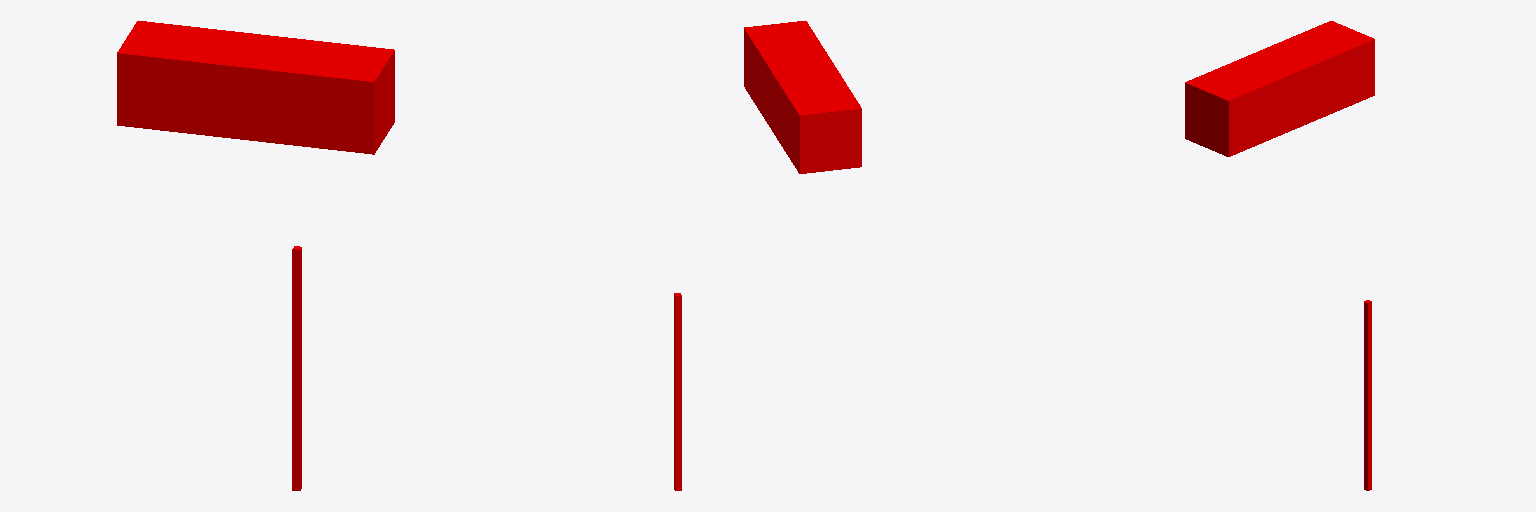
The robot description file, URDF, robot "panda":
<?xml version="1.0" ?>
<!-- =================================================================================== -->
<!-- |    This document was autogenerated by xacro from panda_arm_hand.urdf.xacro      | -->
<!-- |    EDITING THIS FILE BY HAND IS NOT RECOMMENDED                                 | -->
<!-- =================================================================================== -->
<robot name="panda"
  xmlns:xacro="http://www.ros.org/wiki/xacro">
  <link name="panda_link0">
    <inertial>
      <origin rpy="0 0 0" xyz="0 0 0.05"/>
      <mass value="2.9"/>
      <inertia ixx="0.1" ixy="0" ixz="0" iyy="0.1" iyz="0" izz="0.1"/>
    </inertial>
    <visual>
      <geometry>
        <mesh filename="package://meshes/collision/link0.obj"/>
      </geometry>
      <material name="panda_white">
        <color rgba="1. 1. 1. 1."/>
      </material>
    </visual>
    <collision>
      <geometry>
        <mesh filename="package://meshes/collision/link0.obj"/>
      </geometry>
      <material name="panda_white"/>
    </collision>
  </link>
  <link name="panda_link1">
    <inertial>
      <origin rpy="0 0 0" xyz="0 -0.04 -0.05"/>
      <mass value="2.7"/>
      <inertia ixx="0.1" ixy="0" ixz="0" iyy="0.1" iyz="0" izz="0.1"/>
    </inertial>
    <visual>
      <geometry>
        <mesh filename="package://meshes/visual/link1.obj"/>
      </geometry>
      <material name="panda_white"/>
    </visual>
    <collision>
      <geometry>
        <mesh filename="package://meshes/collision/link1.obj"/>
      </geometry>
      <material name="panda_white"/>
    </collision>
  </link>
  <joint name="panda_joint1" type="revolute">
    <safety_controller k_position="100.0" k_velocity="40.0" soft_lower_limit="-2.8973" soft_upper_limit="2.8973"/>
    <origin rpy="0 0 0" xyz="0 0 0.333"/>
    <parent link="panda_link0"/>
    <child link="panda_link1"/>
    <axis xyz="0 0 1"/>
    <limit effort="87" lower="-2.9671" upper="2.9671" velocity="2.1750"/>
  </joint>
  <link name="panda_link2">
    <inertial>
      <origin rpy="0 0 0" xyz="0 -0.04 0.06"/>
      <mass value="2.73"/>
      <inertia ixx="0.1" ixy="0" ixz="0" iyy="0.1" iyz="0" izz="0.1"/>
    </inertial>
    <visual>
      <geometry>
        <mesh filename="package://meshes/visual/link2.obj"/>
      </geometry>
      <material name="panda_white"/>
    </visual>
    <collision>
      <geometry>
        <mesh filename="package://meshes/collision/link2.obj"/>
      </geometry>
      <material name="panda_white"/>
    </collision>
  </link>
  <joint name="panda_joint2" type="revolute">
    <safety_controller k_position="100.0" k_velocity="40.0" soft_lower_limit="-1.7628" soft_upper_limit="1.7628"/>
    <origin rpy="-1.57079632679 0 0" xyz="0 0 0"/>
    <parent link="panda_link1"/>
    <child link="panda_link2"/>
    <axis xyz="0 0 1"/>
    <limit effort="87" lower="-1.8326" upper="1.8326" velocity="2.1750"/>
  </joint>
  <link name="panda_link3">
    <inertial>
      <origin rpy="0 0 0" xyz="0.01 0.01 -0.05"/>
      <mass value="2.04"/>
      <inertia ixx="0.1" ixy="0" ixz="0" iyy="0.1" iyz="0" izz="0.1"/>
    </inertial>
    <visual>
      <geometry>
        <mesh filename="package://meshes/visual/link3.obj"/>
      </geometry>
      <material name="panda_red">
        <color rgba="1. 1. 1. 1."/>
      </material>
    </visual>
    <collision>
      <geometry>
        <mesh filename="package://meshes/collision/link3.obj"/>
      </geometry>
    </collision>
  </link>
  <joint name="panda_joint3" type="revolute">
    <safety_controller k_position="100.0" k_velocity="40.0" soft_lower_limit="-2.8973" soft_upper_limit="2.8973"/>
    <origin rpy="1.57079632679 0 0" xyz="0 -0.316 0"/>
    <parent link="panda_link2"/>
    <child link="panda_link3"/>
    <axis xyz="0 0 1"/>
    <limit effort="87" lower="-2.9671" upper="2.9671" velocity="2.1750"/>
  </joint>
  <link name="panda_link4">
    <inertial>
      <origin rpy="0 0 0" xyz="-0.03 0.03 0.02"/>
      <mass value="2.08"/>
      <inertia ixx="0.1" ixy="0" ixz="0" iyy="0.1" iyz="0" izz="0.1"/>
    </inertial>
    <visual>
      <geometry>
        <mesh filename="package://meshes/visual/link4.obj"/>
      </geometry>
      <material name="panda_white"/>
    </visual>
    <collision>
      <geometry>
        <mesh filename="package://meshes/collision/link4.obj"/>
      </geometry>
      <material name="panda_white"/>
    </collision>
  </link>
  <joint name="panda_joint4" type="revolute">
    <safety_controller k_position="100.0" k_velocity="40.0" soft_lower_limit="-3.0718" soft_upper_limit="-0.0698"/>
    <origin rpy="1.57079632679 0 0" xyz="0.0825 0 0"/>
    <parent link="panda_link3"/>
    <child link="panda_link4"/>
    <axis xyz="0 0 1"/>
    <limit effort="87" lower="-3.1416" upper="0.0" velocity="2.1750"/>
  </joint>
  <link name="panda_link5">
    <inertial>
      <origin rpy="0 0 0" xyz="0 0.04 -0.12"/>
      <mass value="3"/>
      <inertia ixx="0.1" ixy="0" ixz="0" iyy="0.1" iyz="0" izz="0.1"/>
    </inertial>
    <visual>
      <geometry>
        <mesh filename="package://meshes/visual/link5.obj"/>
      </geometry>
      <material name="panda_white"/>
    </visual>
    <collision>
      <geometry>
        <mesh filename="package://meshes/collision/link5.obj"/>
      </geometry>
      <material name="panda_white"/>
    </collision>
  </link>
  <joint name="panda_joint5" type="revolute">
    <safety_controller k_position="100.0" k_velocity="40.0" soft_lower_limit="-2.8973" soft_upper_limit="2.8973"/>
    <origin rpy="-1.57079632679 0 0" xyz="-0.0825 0.384 0"/>
    <parent link="panda_link4"/>
    <child link="panda_link5"/>
    <axis xyz="0 0 1"/>
    <limit effort="12" lower="-2.9671" upper="2.9671" velocity="2.6100"/>
  </joint>
  <link name="panda_link6">
    <inertial>
      <origin rpy="0 0 0" xyz="0.04 0 0"/>
      <mass value="1.3"/>
      <inertia ixx="0.1" ixy="0" ixz="0" iyy="0.1" iyz="0" izz="0.1"/>
    </inertial>
    <visual>
      <geometry>
        <mesh filename="package://meshes/visual/link6.obj"/>
      </geometry>
      <material name="panda_white"/>
    </visual>
    <collision>
      <geometry>
        <mesh filename="package://meshes/collision/link6.obj"/>
      </geometry>
      <material name="panda_white"/>
    </collision>
  </link>
  <joint name="panda_joint6" type="revolute">
    <safety_controller k_position="100.0" k_velocity="40.0" soft_lower_limit="-0.0175" soft_upper_limit="3.7525"/>
    <origin rpy="1.57079632679 0 0" xyz="0 0 0"/>
    <parent link="panda_link5"/>
    <child link="panda_link6"/>
    <axis xyz="0 0 1"/>
    <limit effort="12" lower="-0.0873" upper="3.8223" velocity="2.6100"/>
  </joint>
  <link name="panda_link7">
    <inertial>
      <origin rpy="0 0 0" xyz="0 0 0.08"/>
      <mass value=".2"/>
      <inertia ixx="0.1" ixy="0" ixz="0" iyy="0.1" iyz="0" izz="0.1"/>
    </inertial>
    <visual>
      <geometry>
        <mesh filename="package://meshes/collision/link7.obj"/>
      </geometry>
      <material name="panda_white"/>
    </visual>
    <collision>
      <geometry>
        <mesh filename="package://meshes/collision/link7.obj"/>
      </geometry>
      <material name="panda_white"/>
    </collision>
  </link>
  <joint name="panda_joint7" type="revolute">
    <safety_controller k_position="100.0" k_velocity="40.0" soft_lower_limit="-2.8973" soft_upper_limit="2.8973"/>
    <origin rpy="1.57079632679 0 0" xyz="0.088 0 0"/>
    <parent link="panda_link6"/>
    <child link="panda_link7"/>
    <axis xyz="0 0 1"/>
    <limit effort="12" lower="-2.9671" upper="2.9671" velocity="2.6100"/>
  </joint>
  <link name="panda_link8">
    <inertial>
      <origin rpy="0 0 0" xyz="0 0 0"/>
      <mass value="0.0"/>
      <inertia ixx="0.1" ixy="0" ixz="0" iyy="0.1" iyz="0" izz="0.1"/>
    </inertial>
  </link>
  <joint name="panda_joint8" type="fixed">
    <origin rpy="0 0 0" xyz="0 0 0.107"/>
    <parent link="panda_link7"/>
    <child link="panda_link8"/>
    <axis xyz="0 0 0"/>
  </joint>
  <joint name="panda_hand_joint" type="fixed">
    <parent link="panda_link8"/>
    <child link="panda_hand"/>
    <origin rpy="0 0 -0.785398163397" xyz="0 0 0"/>
  </joint>
  <link name="panda_hand">
    <inertial>
      <origin rpy="0 0 0" xyz="0 0 0.04"/>
      <mass value=".81"/>
      <inertia ixx="0.1" ixy="0" ixz="0" iyy="0.1" iyz="0" izz="0.1"/>
    </inertial>
    <visual>
      <geometry>
        <mesh filename="package://meshes/visual/hand.obj"/>
      </geometry>
      <material name="panda_white"/>
    </visual>
    <collision>
      <geometry>
        <mesh filename="package://meshes/collision/hand.obj"/>
      </geometry>
      <material name="panda_white"/>
    </collision>
  </link>

  <link name="cam">
    <contact>
      <friction_anchor/>
      <stiffness value="30000.0"/>
      <damping value="1000.0"/>
      <spinning_friction value="0.1"/>
      <lateral_friction value="1.0"/>
    </contact>
    <inertial>
      <origin rpy="0 0 0" xyz="0 0 0"/>
      <mass value="0.1"/>
      <inertia ixx="0.1" ixy="0" ixz="0" iyy="0.1" iyz="0" izz="0.1"/>
    </inertial>
    <visual>
      <origin rpy="0 0 0" xyz="-0.06 0 -0.035"/>
      <geometry>
        <box size="0.03 0.1 0.03"/>
      </geometry>
      <material name="stick_red">
        <color rgba="1 0.0 0.0 1"/>
      </material>
    </visual>
    <collision>
      <origin rpy="0 0 0" xyz="-0.06 0 -0.035"/>
      <geometry>
        <box size="0.03 0.1 0.03"/>
      </geometry>
    </collision>
  </link>
  <joint name="cam_joint" type="fixed">
    <parent link="panda_hand"/>
    <child link="cam"/>
    <origin rpy="0 0 0" xyz="0 -0.005 0.05"/>
  </joint>

  <link name="panda_leftfinger">
    <contact>
      <friction_anchor/>
      <stiffness value="30000.0"/>
      <damping value="1000.0"/>
      <spinning_friction value="0.1"/>
      <lateral_friction value="1.0"/>
    </contact>
    <inertial>
      <origin rpy="0 0 0" xyz="0 0.01 0.02"/>
      <mass value="0.1"/>
      <inertia ixx="0.1" ixy="0" ixz="0" iyy="0.1" iyz="0" izz="0.1"/>
    </inertial>
    <visual>
      <geometry>
        <mesh filename="package://meshes/visual/finger.obj"/>
      </geometry>
      <material name="panda_white"/>
    </visual>
    <collision>
      <geometry>
        <mesh filename="package://meshes/collision/finger.obj"/>
      </geometry>
      <material name="panda_white"/>
    </collision>
  </link>
  <link name="panda_rightfinger">
    <contact>
      <friction_anchor/>
      <stiffness value="30000.0"/>
      <damping value="1000.0"/>
      <spinning_friction value="0.1"/>
      <lateral_friction value="1.0"/>
    </contact>
    <inertial>
      <origin rpy="0 0 0" xyz="0 -0.01 0.02"/>
      <mass value="0.1"/>
      <inertia ixx="0.1" ixy="0" ixz="0" iyy="0.1" iyz="0" izz="0.1"/>
    </inertial>
    <visual>
      <origin rpy="0 0 3.14159265359" xyz="0 0 0"/>
      <geometry>
        <mesh filename="package://meshes/visual/finger.obj"/>
      </geometry>
      <material name="panda_white"/>
    </visual>
    <collision>
      <origin rpy="0 0 3.14159265359" xyz="0 0 0"/>
      <geometry>
        <mesh filename="package://meshes/collision/finger.obj"/>
      </geometry>
      <material name="panda_white"/>
    </collision>
  </link>

  <link name="stick">
    <contact>
      <friction_anchor/>
      <stiffness value="30000.0"/>
      <damping value="1000.0"/>
      <spinning_friction value="0.1"/>
      <lateral_friction value="1.0"/>
    </contact>
    <inertial>
      <origin rpy="0 0 0" xyz="0 0 0"/>
      <mass value="0.1"/>
      <inertia ixx="0.1" ixy="0" ixz="0" iyy="0.1" iyz="0" izz="0.1"/>
    </inertial>
    <visual>
      <origin rpy="0 0 0" xyz="0 0 0.05"/>
      <geometry>
        <box size="0.003 0.003 0.10"/>
      </geometry>
      <material name="stick_red">
        <color rgba="1 0.0 0.0 1"/>
      </material>
    </visual>
    <collision>
      <origin rpy="0 0 0" xyz="0 0 0.05"/>
      <geometry>
        <box size="0.003 0.003 0.10"/>
      </geometry>
    </collision>
  </link>
  <joint name="stick_finger_joint" type="fixed">
    <parent link="panda_rightfinger"/>
    <child link="stick"/>
    <origin rpy="0 0 0" xyz="0 -0.005 0.05"/>
  </joint>

  <link name="sticktarget">
    <inertial>
      <origin rpy="0 0 0" xyz="0 0 0"/>
      <mass value="0.0"/>
      <inertia ixx="0.1" ixy="0" ixz="0" iyy="0.1" iyz="0" izz="0.1"/>
    </inertial>
  </link>
  <joint name="sticktarget_hand" type="fixed">
    <parent link="stick"/>
    <child link="sticktarget"/>
    <origin rpy="0 0 0" xyz="0 0 0.10"/>
  </joint>

  <joint name="panda_finger_joint1" type="prismatic">
    <parent link="panda_hand"/>
    <child link="panda_leftfinger"/>
    <origin rpy="0 0 0" xyz="0 0 0.0584"/>
    <axis xyz="0 1 0"/>
    <limit effort="20" lower="0.0" upper="0.04" velocity="0.2"/>
  </joint>
  <joint name="panda_finger_joint2" type="prismatic">
    <parent link="panda_hand"/>
    <child link="panda_rightfinger"/>
    <origin rpy="0 0 0" xyz="0 0 0.0584"/>
    <axis xyz="0 -1 0"/>
    <limit effort="20" lower="0.0" upper="0.04" velocity="0.2"/>
    <mimic joint="panda_finger_joint1"/>
  </joint>
  <link name="panda_grasptarget">
    <inertial>
      <origin rpy="0 0 0" xyz="0 0 0"/>
      <mass value="0.0"/>
      <inertia ixx="0.1" ixy="0" ixz="0" iyy="0.1" iyz="0" izz="0.1"/>
    </inertial>
  </link>
  <joint name="panda_grasptarget_hand" type="fixed">
    <parent link="panda_hand"/>
    <child link="panda_grasptarget"/>
    <origin rpy="0 0 0" xyz="0 0 0.105"/>
  </joint>

</robot>

--- What the picture shows (computed from the rendered views, not written in the file) ---
The picture shows the robot from 3 angles, left to right: view 1: azimuth 30°, elevation 25°; view 2: azimuth 150°, elevation 25°; view 3: azimuth 270°, elevation 25°; orthographic projection.
Robot: panda — 16 links, 15 joints (7 revolute, 2 prismatic, 6 fixed); root link panda_link0; default pose: every joint at zero.
Visible links, largest first — view 1: cam, stick; view 2: cam, stick; view 3: cam, stick.
Boxes of the visible links, left/top/right/bottom form: cam: left=117, top=21, right=394, bottom=154; stick: left=292, top=246, right=301, bottom=490; cam: left=744, top=21, right=861, bottom=173; stick: left=674, top=293, right=681, bottom=490; cam: left=1185, top=21, right=1374, bottom=156; stick: left=1364, top=300, right=1371, bottom=490.
Size in the robot's own frame: 0.0919 by 0.0919 by 0.2084 metres.
0 mesh visuals loaded from 10 distinct referenced files (none loaded); not drawn: 11 (reference not matched to a file when rendering).